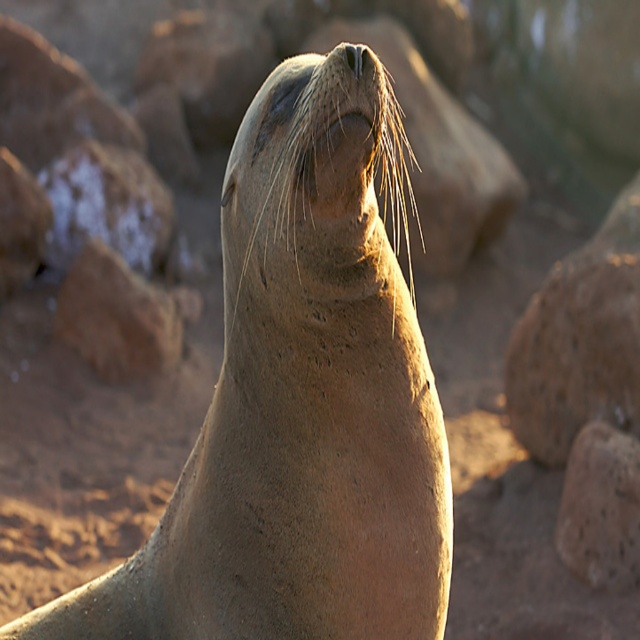Sea lion: (0, 47, 455, 639)
